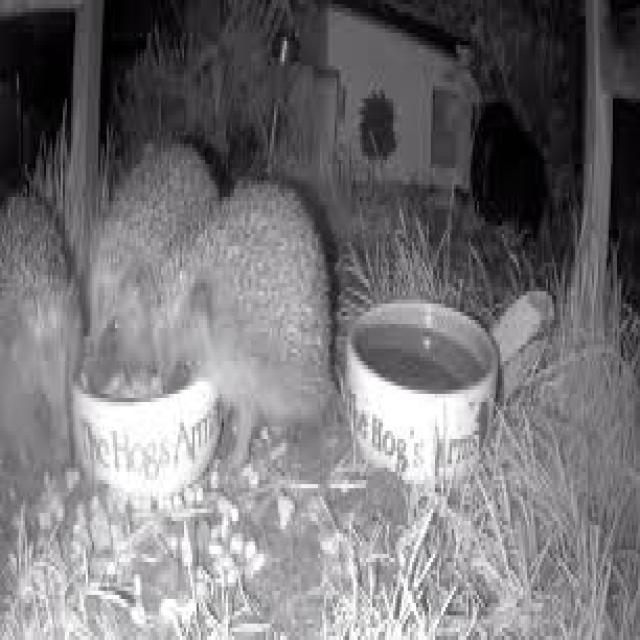Hedgehog: (152, 175, 348, 471)
